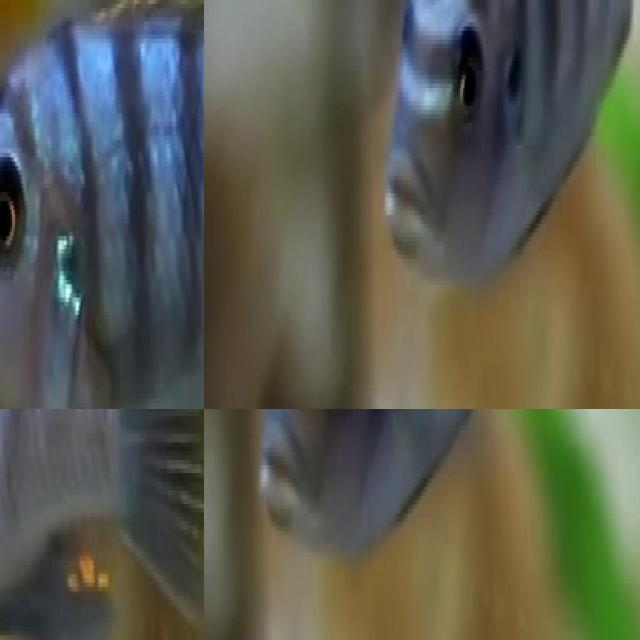fish: (0, 0, 204, 409), (0, 409, 204, 640)
